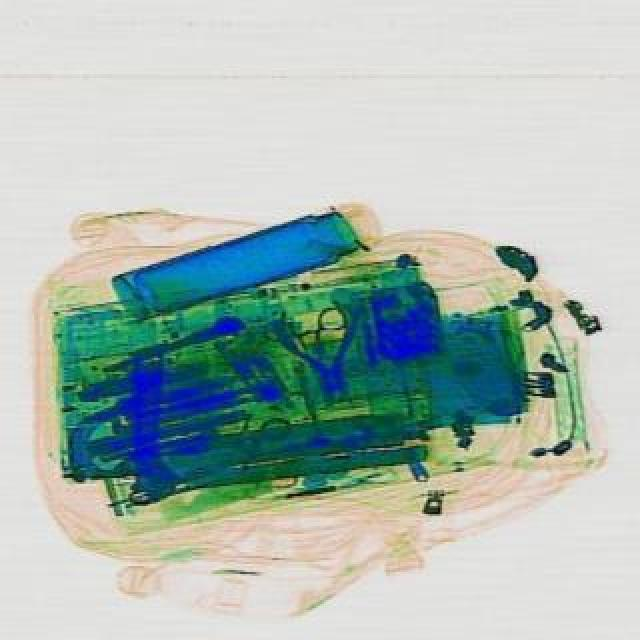wrench: (268, 300, 380, 410)
